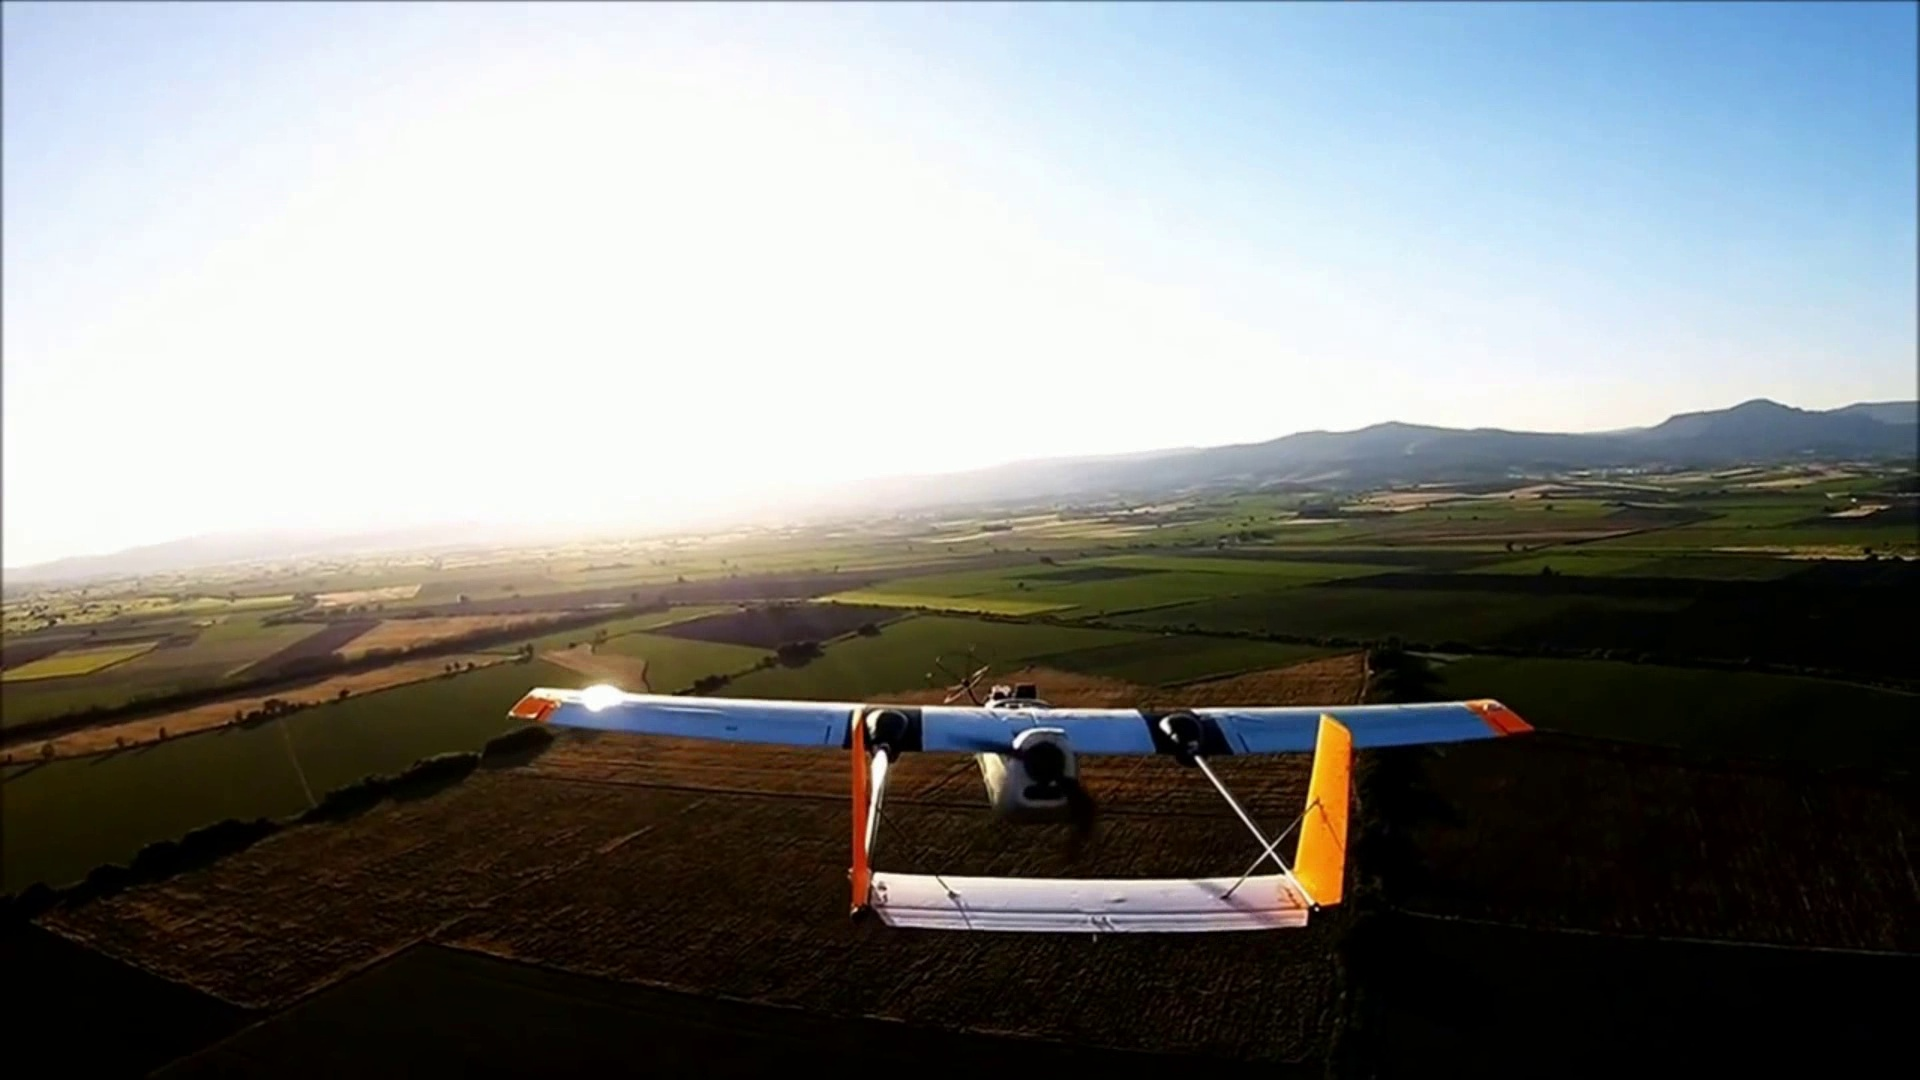airplane: (512, 676, 1538, 938)
